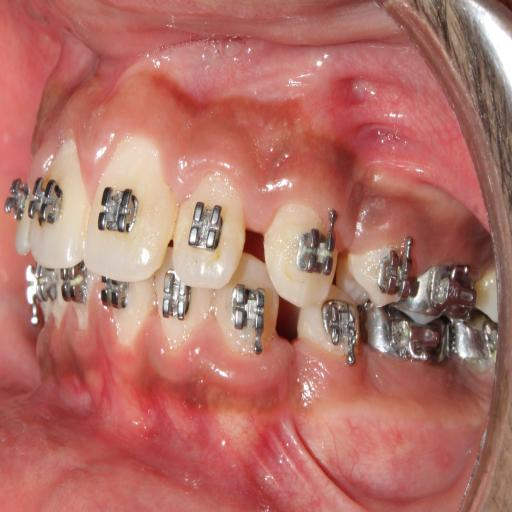correct_brace: (349, 216, 415, 310), (94, 176, 151, 252), (296, 209, 338, 291), (187, 190, 226, 258)
incorrect_brace: (172, 168, 246, 286), (372, 238, 413, 298)
